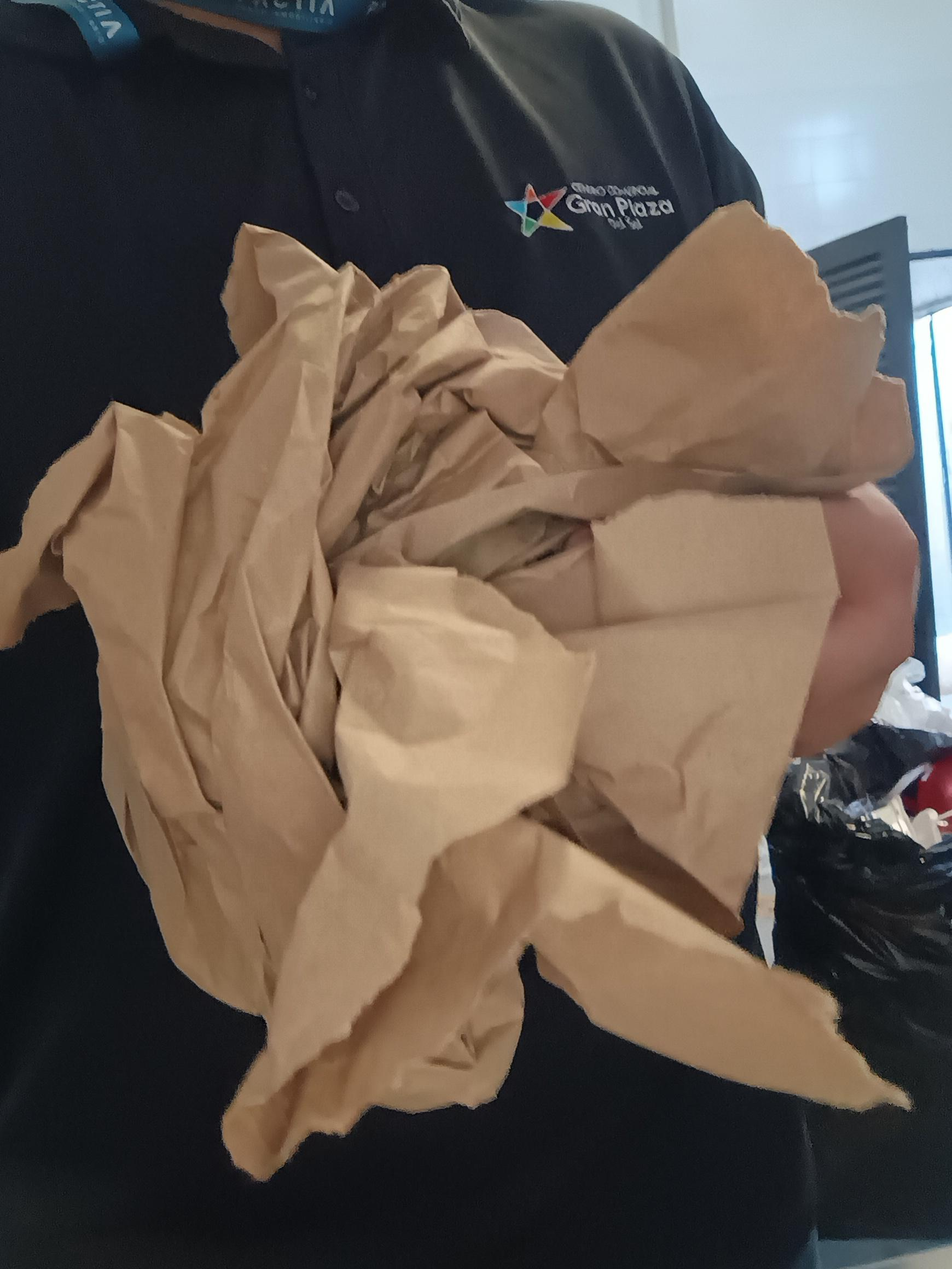Papel: (0, 202, 913, 1181)
